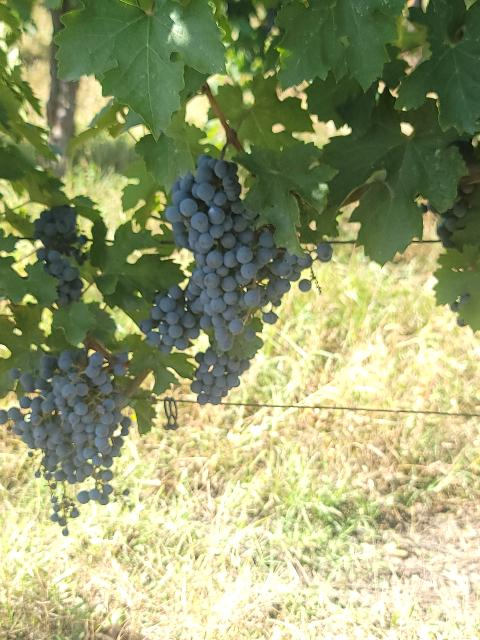grapes: (165, 155, 286, 315), (0, 355, 79, 535), (52, 349, 130, 481), (34, 205, 88, 308), (141, 285, 200, 354), (191, 349, 243, 405)
